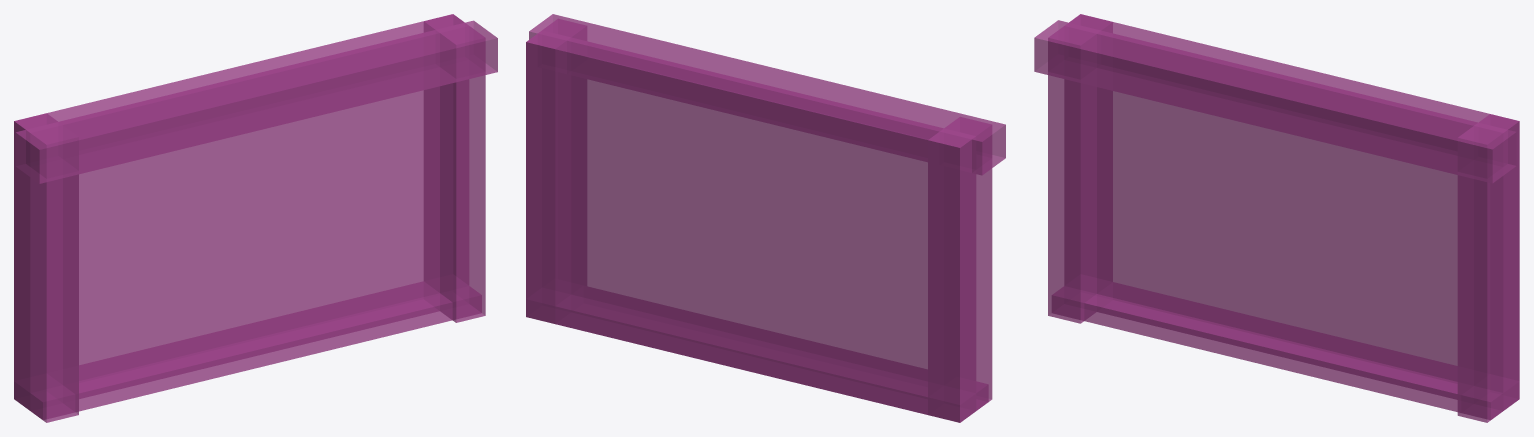
File: SM_Bld_Alcove_02_Collision_01.fbx
The picture shows the model from 3 angles, left to right: view 1: azimuth 30°, elevation 25°; view 2: azimuth 150°, elevation 25°; view 3: azimuth 330°, elevation 25°; orthographic projection.
Visible parts, largest first — view 1: SM_Bld_Alcove_02_Collision_01; view 2: SM_Bld_Alcove_02_Collision_01; view 3: SM_Bld_Alcove_02_Collision_01.
Boxes of the visible parts, box(x1,y1,x2,y2) form: SM_Bld_Alcove_02_Collision_01: box(14, 14, 497, 422); SM_Bld_Alcove_02_Collision_01: box(526, 14, 1005, 422); SM_Bld_Alcove_02_Collision_01: box(1034, 14, 1519, 422).
Bounding box in the file's own units: 524 × 304 × 71.17.
